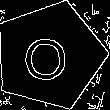O_N: (27, 29, 73, 82)
